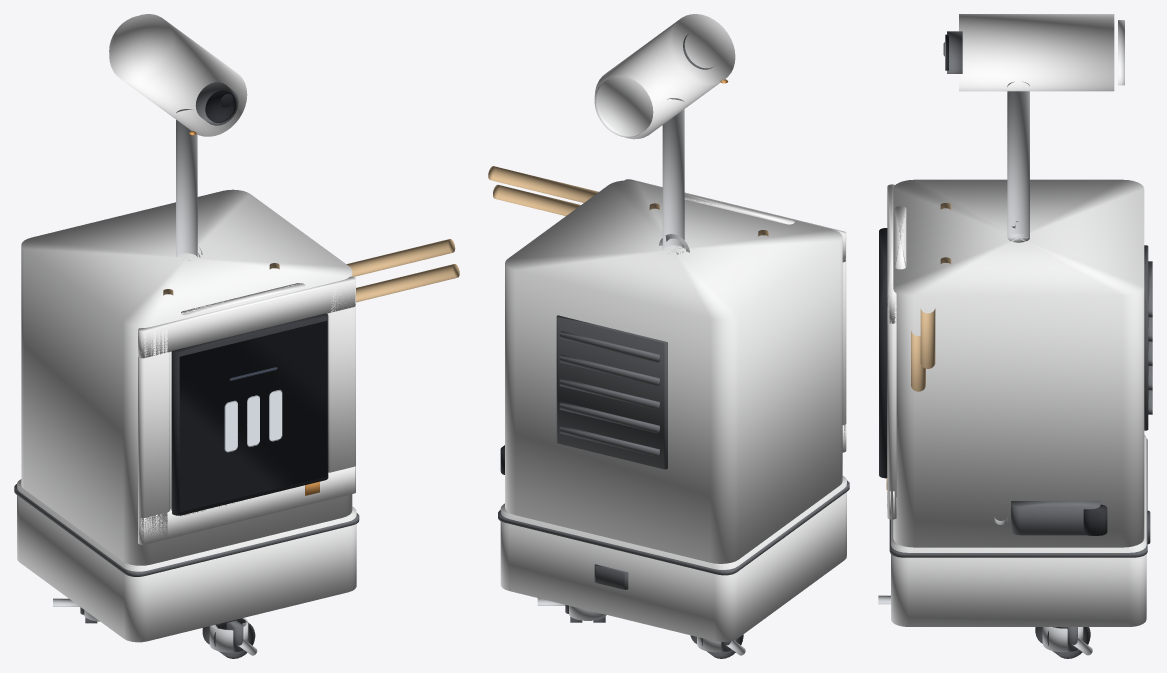
File: robot.glb
3 renders of one model, left to right at view 1: azimuth 30°, elevation 25°; view 2: azimuth 150°, elevation 25°; view 3: azimuth 270°, elevation 25°, orthographic. The views are drawn at different scales.
Visible parts, largest first — view 1: 柜体, 底盘外壳, 画面, 摄像头外壳, 前脸围边, 前脸围边左, 前脸围边下, 前脸围边右, 屏幕玻璃, 立柱, 底盘腰线, 木棒1 (+5 smaller); view 2: 柜体, 底盘外壳, 背板格栅, 摄像头外壳, 立柱, 外壳后端盖, 底盘腰线, 木棒1, 木棒2, 格栅条4, 格栅条1, 格栅条0 (+5 smaller); view 3: 柜体, 底盘外壳, 摄像头外壳, 立柱, 推杆, 屏幕玻璃, 前脸围边右, 底盘腰线, 前脸围边, 背板格栅, 木棒1, 拉手底座 (+5 smaller).
Part boxes in pixels (box(x1,y1,x2,y2)): 柜体: box(21, 189, 352, 565); 底盘外壳: box(17, 479, 356, 642); 画面: box(179, 321, 327, 512); 摄像头外壳: box(109, 14, 247, 136); 前脸围边: box(138, 276, 355, 358); 前脸围边左: box(138, 329, 169, 543); 前脸围边下: box(138, 466, 355, 544); 前脸围边右: box(327, 282, 355, 491); 屏幕玻璃: box(171, 313, 328, 515); 立柱: box(176, 109, 197, 260); 底盘腰线: box(14, 484, 359, 576); 木棒1: box(346, 239, 455, 276); 柜体: box(505, 180, 842, 563); 底盘外壳: box(500, 476, 846, 641); 背板格栅: box(556, 315, 667, 469); 摄像头外壳: box(594, 14, 735, 139); 立柱: box(662, 98, 684, 254); 外壳后端盖: box(594, 76, 653, 137); 底盘腰线: box(498, 480, 849, 575); 木棒1: box(488, 166, 598, 202); 木棒2: box(493, 184, 580, 215); 格栅条4: box(559, 331, 659, 362); 格栅条1: box(559, 402, 659, 433); 格栅条0: box(559, 425, 659, 456); 柜体: box(893, 179, 1144, 547); 底盘外壳: box(891, 435, 1146, 626); 摄像头外壳: box(959, 14, 1114, 91); 立柱: box(1007, 81, 1029, 242); 推杆: box(1011, 501, 1100, 535); 屏幕玻璃: box(879, 228, 887, 478); 前脸围边右: box(887, 297, 896, 518); 底盘腰线: box(889, 438, 1147, 557); 前脸围边: box(887, 184, 896, 323); 背板格栅: box(1144, 245, 1148, 430); 木棒1: box(920, 308, 935, 368); 拉手底座: box(894, 206, 906, 269).
Size of the model in its own units: 0.686 by 1.11 by 0.459.
11 materials, 1 textured.
